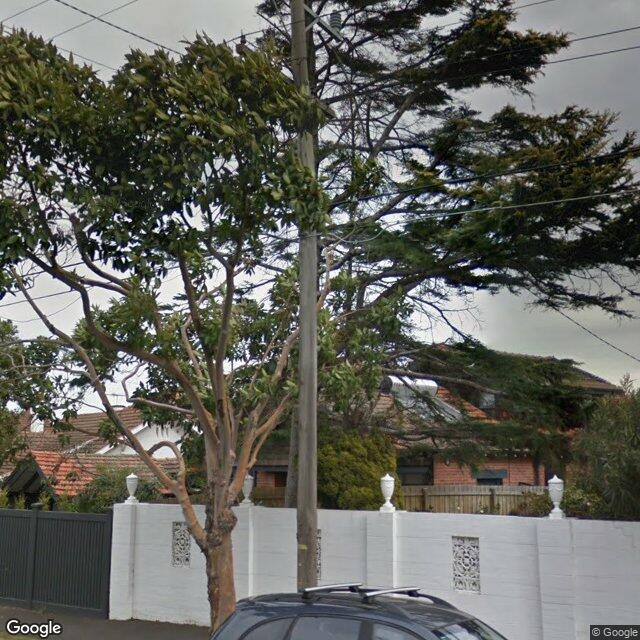timber-pole: (283, 0, 319, 593)
